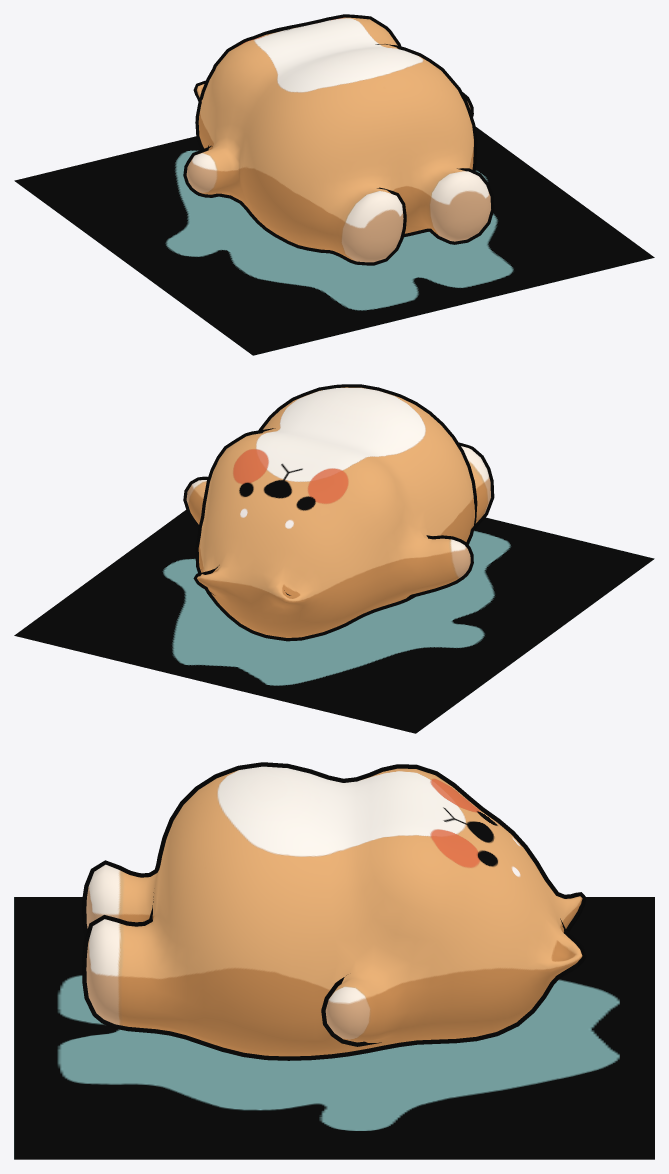
The model's file is toon_cute_dog.glb.
3 renders of one model, top to bottom at view 1: azimuth 30°, elevation 25°; view 2: azimuth 150°, elevation 25°; view 3: azimuth 270°, elevation 25°, orthographic. The views are drawn at different scales.
Parts seen in each view (by area): view 1: back, dog_02 - Default_0, dog outline_02 - Default_0; view 2: back, dog_02 - Default_0, dog outline_02 - Default_0; view 3: dog_02 - Default_0, back, dog outline_02 - Default_0.
Part boxes in pixels (x1=…): back: x1=14, y1=127, x2=654, y2=355; dog_02 - Default_0: x1=186, y1=17, x2=490, y2=262; dog outline_02 - Default_0: x1=183, y1=14, x2=494, y2=265; back: x1=14, y1=510, x2=654, y2=733; dog_02 - Default_0: x1=186, y1=387, x2=490, y2=637; dog outline_02 - Default_0: x1=183, y1=384, x2=494, y2=641; dog_02 - Default_0: x1=86, y1=766, x2=582, y2=1056; back: x1=14, y1=897, x2=654, y2=1159; dog outline_02 - Default_0: x1=82, y1=762, x2=586, y2=1060.
Bounding box in the file's own units: 194 × 85.68 × 200.
Materials: 1 (1 with a texture image).
